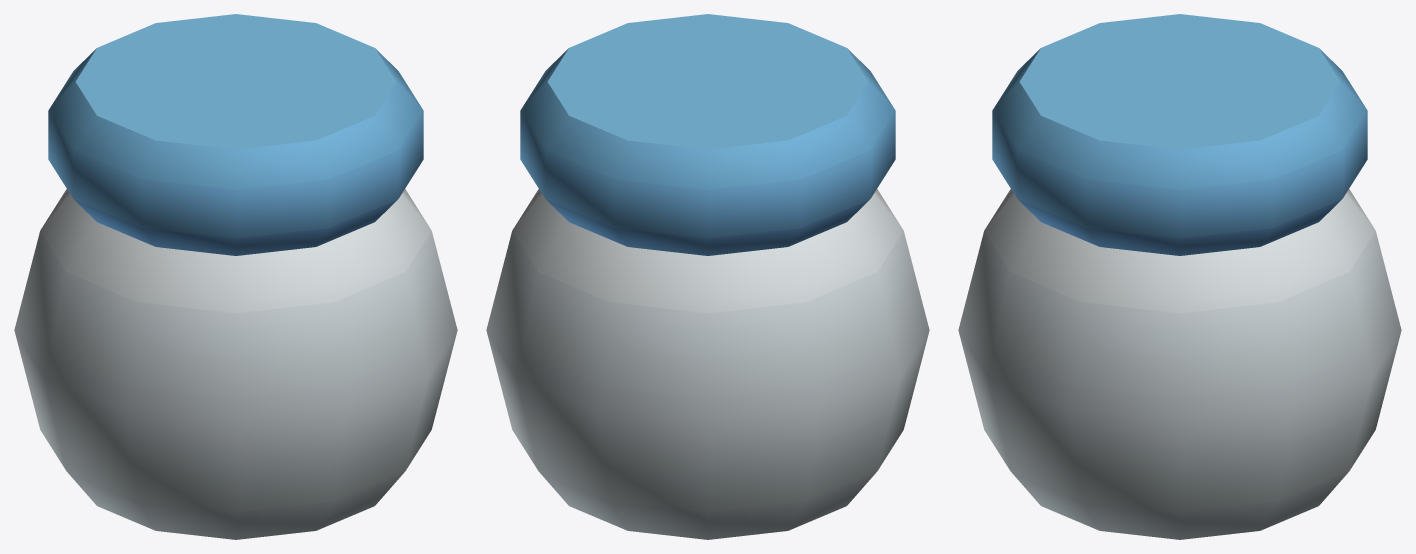
Rendered from res-jar-a-small.glb.
3 views of the same model, side by side, from view 1: azimuth 30°, elevation 25°; view 2: azimuth 150°, elevation 25°; view 3: azimuth 270°, elevation 25° (orthographic).
Parts seen in each view (by area): view 1: jar_A_small; view 2: jar_A_small; view 3: jar_A_small.
Boxes of the visible parts, x1,y1,x2,y2 form: jar_A_small: (14,14,457,539); jar_A_small: (486,14,929,539); jar_A_small: (958,14,1401,539).
Bounding box in the file's own units: 0.566 × 0.55 × 0.566.
Materials: 1 (1 with a texture image).
